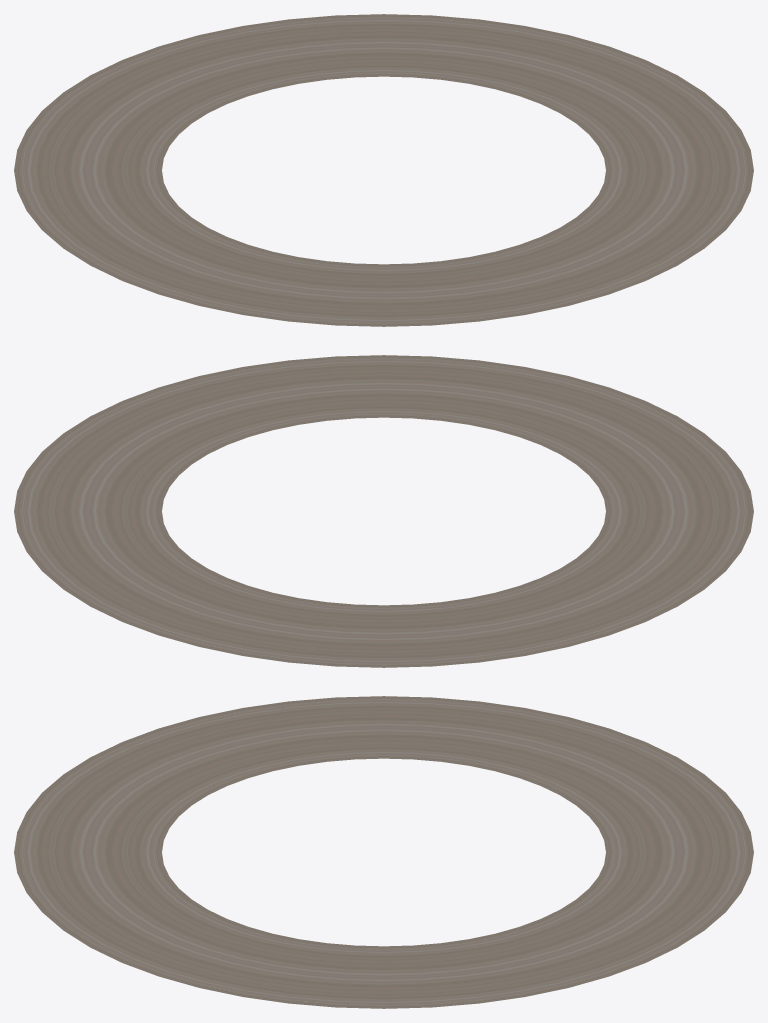
The model's file is ring.glb.
3 renders of one model, top to bottom at view 1: azimuth 30°, elevation 25°; view 2: azimuth 150°, elevation 25°; view 3: azimuth 270°, elevation 25°, orthographic.
Parts seen in each view (by area): view 1: Tore; view 2: Tore; view 3: Tore.
Part boxes in pixels (left/top/right/bottom): Tore: left=14, top=14, right=753, bottom=326; Tore: left=14, top=355, right=753, bottom=667; Tore: left=14, top=696, right=753, bottom=1008.
Bounding box in the file's own units: 2.5 × 0 × 2.5.
1 material, 1 textured.
